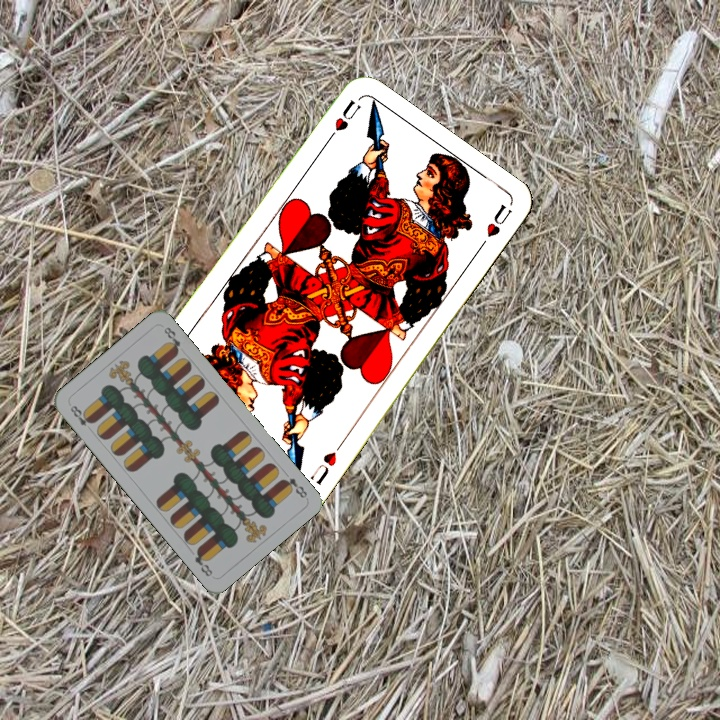E8: (277, 473, 310, 501), (65, 400, 96, 429)
HU: (321, 95, 364, 147), (306, 447, 340, 487)
